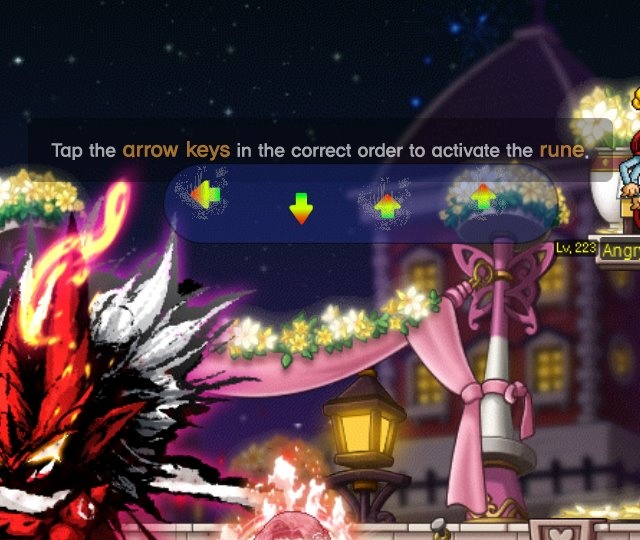rune_box: (157, 153, 567, 252)
